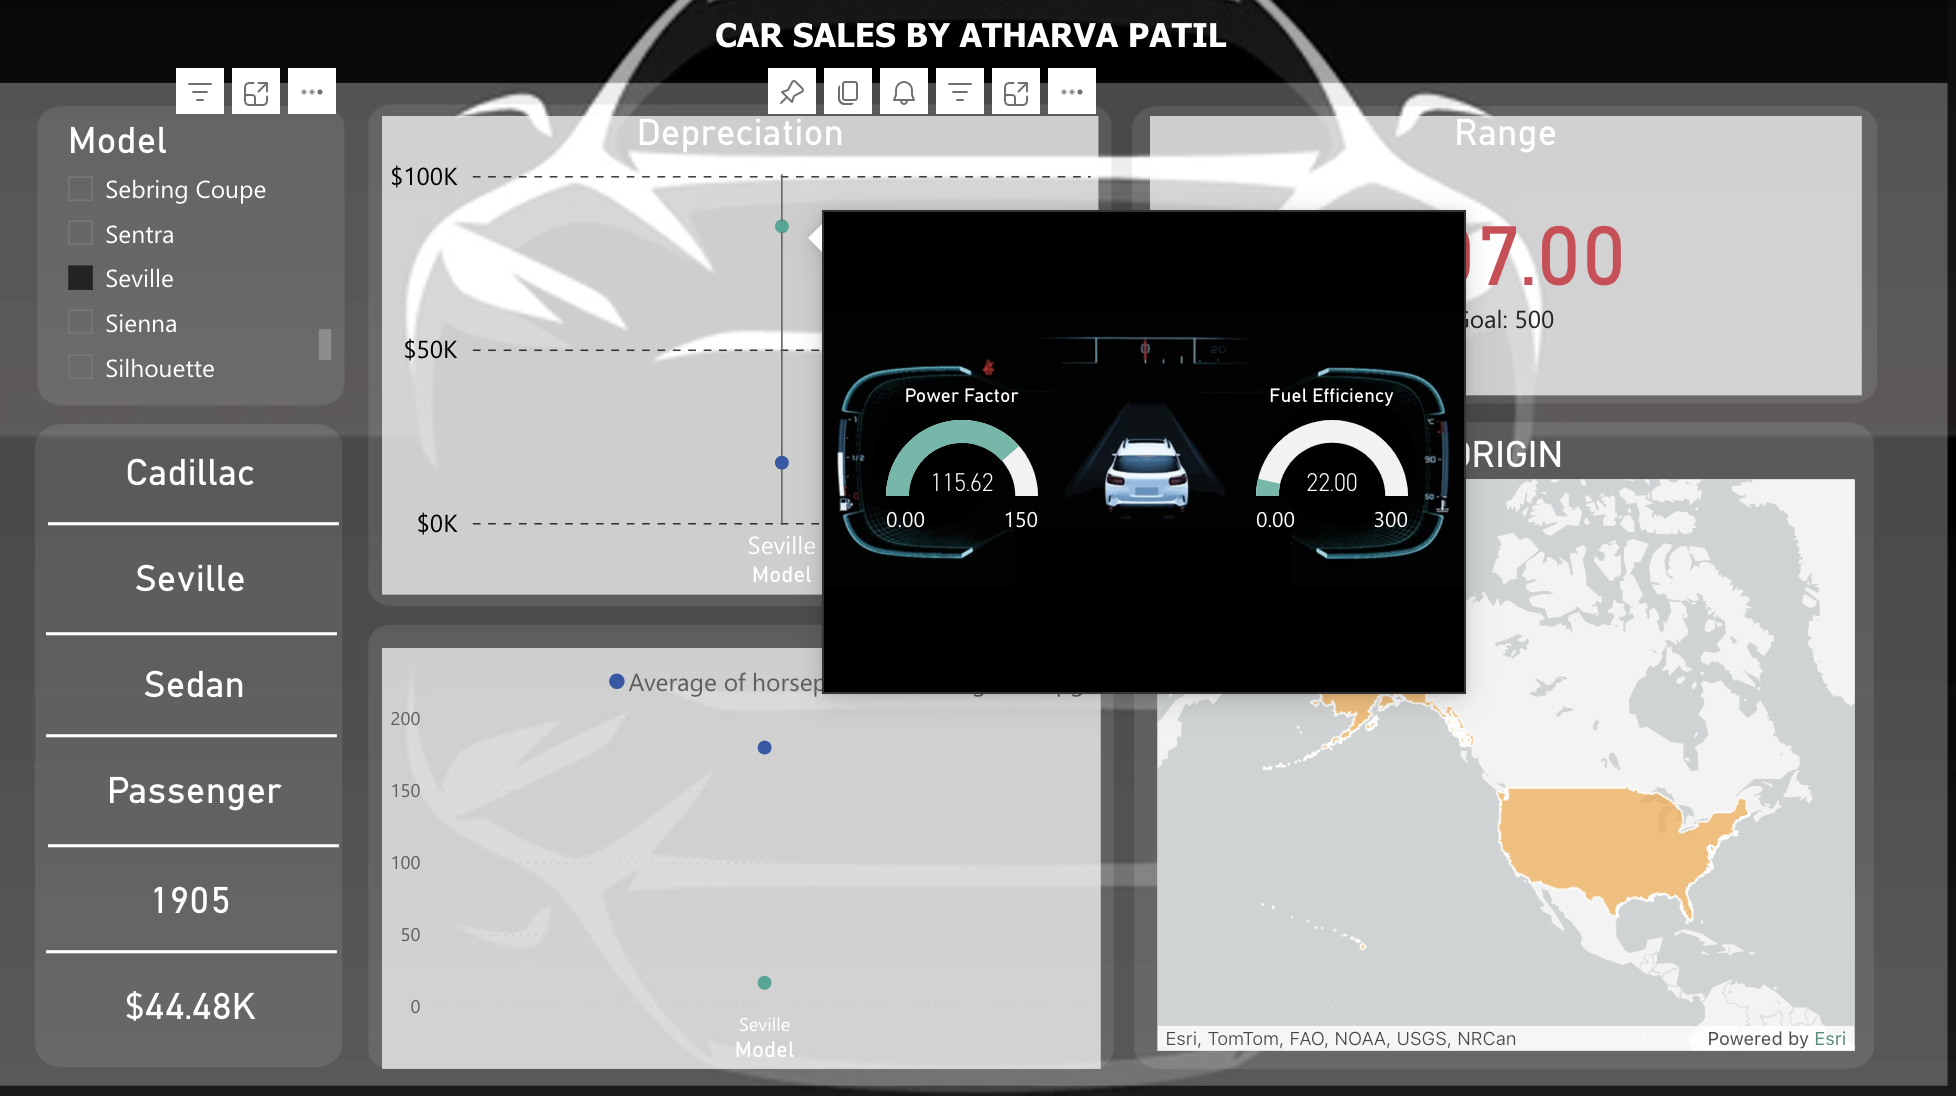

The page's visual inventory and layout, read from the dashboard file:
{"tool":"powerbi","page":{"name":"Model","canvas":[1280,720],"ordinal":1},"visuals":[{"type":"textbox","box":[9.4,10.9,1256.2,35.9],"z":0},{"type":"lineChart","title":"Depreciation","fields":{"Category":["Car_sales.Model"],"Y":["Avg(Car_sales.Depreciation Amount)","Avg(Car_sales.Max Depreciation)"]},"box":[254.7,81.2,465.6,310.9],"z":1000},{"type":"areaChart","fields":{"Category":["Car_sales.Model"],"Y":["Avg(Car_info.horsepower)","Avg(Car_info.mpg)"]},"box":[254.7,428.1,467.2,273.4],"z":2000},{"type":"card","fields":{"Values":["Min(Car_model.Category)"]},"box":[39.1,415.6,187.5,68.8],"z":3000},{"type":"esriVisual","title":"ORIGIN","fields":{"Location":["Car_info.origin"]},"box":[753.1,290.6,462.5,403.1],"z":4000},{"type":"shape","box":[37.5,301.6,189.1,90.6],"z":5000},{"type":"card","fields":{"Values":["Min(Car_model.Year)"]},"box":[35.9,556.2,187.5,68.8],"z":6000},{"type":"shape","box":[35.9,373.4,189.1,90.6],"z":7000},{"type":"card","fields":{"Values":["Min(Car_sales.Model)"]},"box":[35.9,346.9,187.5,68.8],"z":8000},{"type":"shape","box":[35.9,439.1,189.1,90.6],"z":9000},{"type":"card","fields":{"Values":["Min(Car_sales.Vehicle_type)"]},"box":[39.1,484.4,187.5,68.8],"z":10000},{"type":"shape","box":[37.5,510.9,189.1,90.6],"z":11000},{"type":"card","fields":{"Values":["Min(Car_sales.Manufacturer)"]},"box":[35.9,278.1,187.5,68.8],"z":12000},{"type":"shape","box":[35.9,579.7,189.1,90.6],"z":13000},{"type":"card","fields":{"Values":["Avg(Car_sales.Price)"]},"box":[35.9,625,187.5,68.8],"z":14000},{"type":"kpi","title":"Range","fields":{"Indicator":["Avg(Car_sales.Range)"],"TrendLine":["Car_sales.Range"],"Goal":["Car_sales.target_range"]},"box":[753.1,81.2,462.5,181.2],"z":15000},{"type":"slicer","fields":{"Values":["Car_sales.Model"]},"box":[37.5,81.2,189.1,181.2],"z":16000}]}

Visuals, with their boxes on the page's 1280x720 design canvas (x1, y1, x2, y2). These are canvas units, not pixel positions in the 1956x1096 screenshot, which may show the page scaled, cropped or inside an application window:
textbox: left=9, top=11, right=1266, bottom=47
"Depreciation" lineChart: left=255, top=81, right=720, bottom=392
areaChart - Car_sales.Model x Avg(Car_info.horsepower): left=255, top=428, right=722, bottom=702
card - Min(Car_model.Category): left=39, top=416, right=227, bottom=484
"ORIGIN" esriVisual: left=753, top=291, right=1216, bottom=694
shape: left=38, top=302, right=227, bottom=392
card - Min(Car_model.Year): left=36, top=556, right=223, bottom=625
shape: left=36, top=373, right=225, bottom=464
card - Min(Car_sales.Model): left=36, top=347, right=223, bottom=416
shape: left=36, top=439, right=225, bottom=530
card - Min(Car_sales.Vehicle_type): left=39, top=484, right=227, bottom=553
shape: left=38, top=511, right=227, bottom=602
card - Min(Car_sales.Manufacturer): left=36, top=278, right=223, bottom=347
shape: left=36, top=580, right=225, bottom=670
card - Avg(Car_sales.Price): left=36, top=625, right=223, bottom=694
"Range" kpi: left=753, top=81, right=1216, bottom=262
slicer - Car_sales.Model: left=38, top=81, right=227, bottom=262
